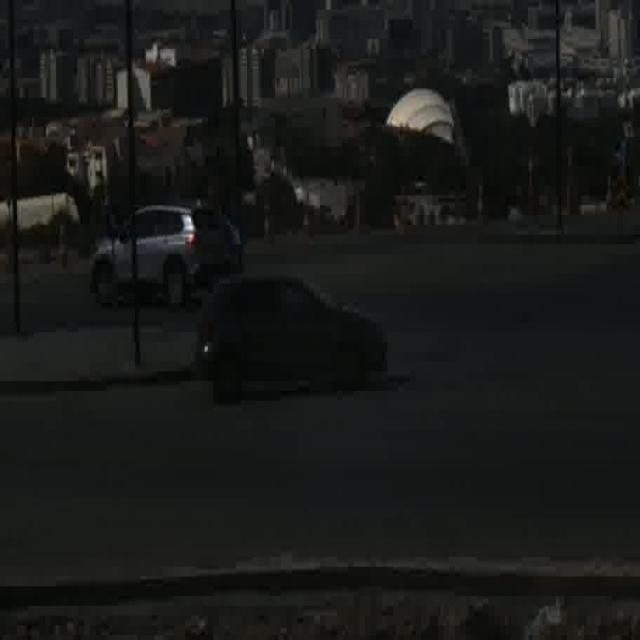Car: (195, 278, 392, 406), (92, 206, 245, 309)
